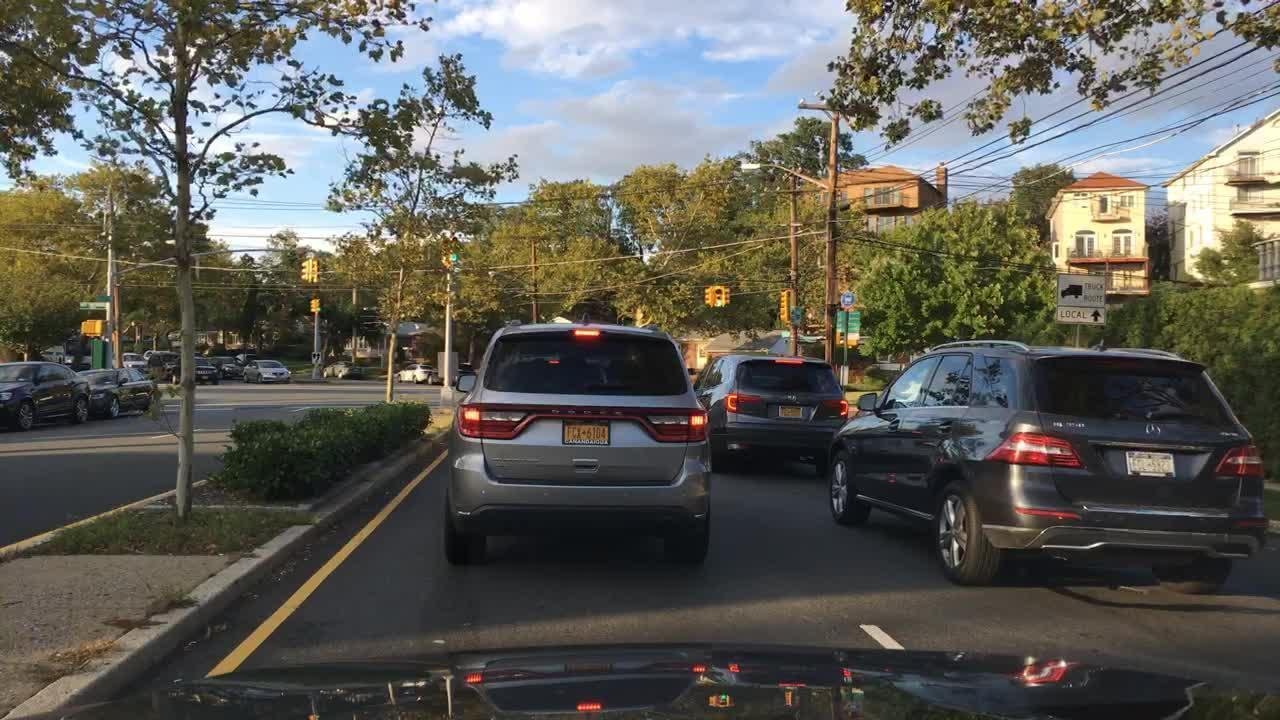Mercedes: (1141, 422, 1165, 443)
dodge: (543, 403, 632, 429)
